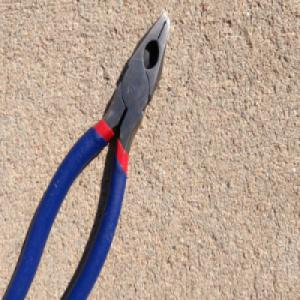Pliers: (1, 10, 171, 300)
